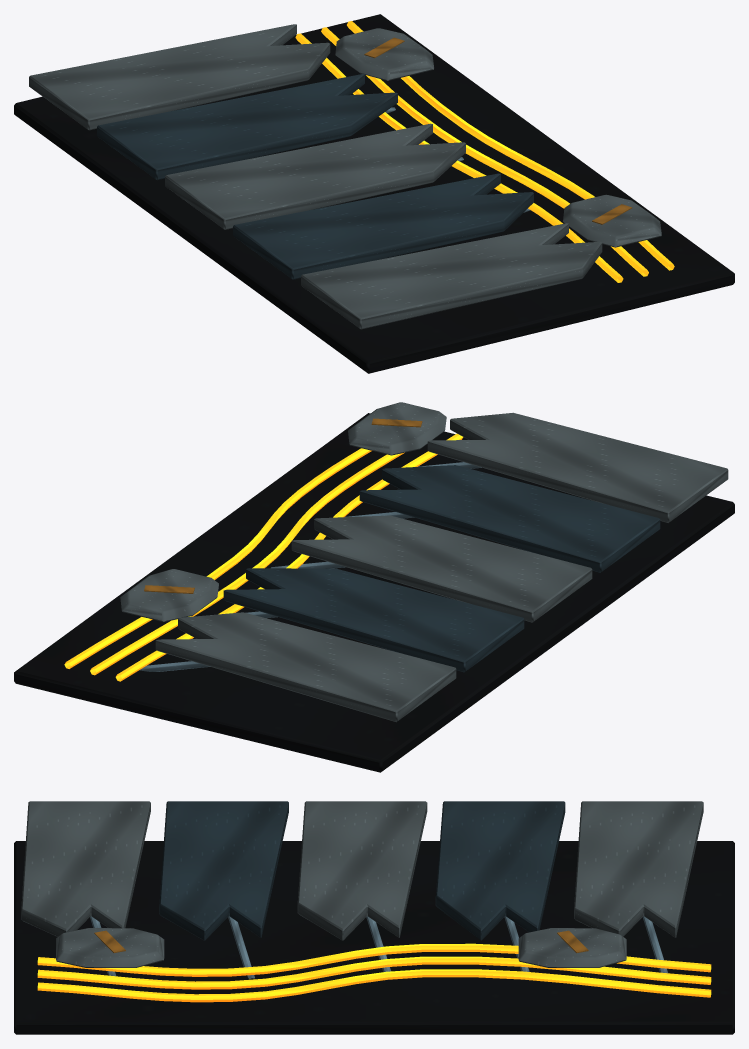
The model's file is Broken_Edge_V3_1.fbx.
The picture shows the model from 3 angles, top to bottom: view 1: azimuth 30°, elevation 25°; view 2: azimuth 150°, elevation 25°; view 3: azimuth 270°, elevation 25°; orthographic projection.
Visible parts, largest first — view 1: Broken_Edge_V3_1; view 2: Broken_Edge_V3_1; view 3: Broken_Edge_V3_1.
Boxes of the visible parts, x1=… form: Broken_Edge_V3_1: x1=14, y1=14, x2=734, y2=373; Broken_Edge_V3_1: x1=14, y1=402, x2=734, y2=772; Broken_Edge_V3_1: x1=14, y1=801, x2=734, y2=1034.
Bounding box in the file's own units: 3.6 × 0.516 × 6.
